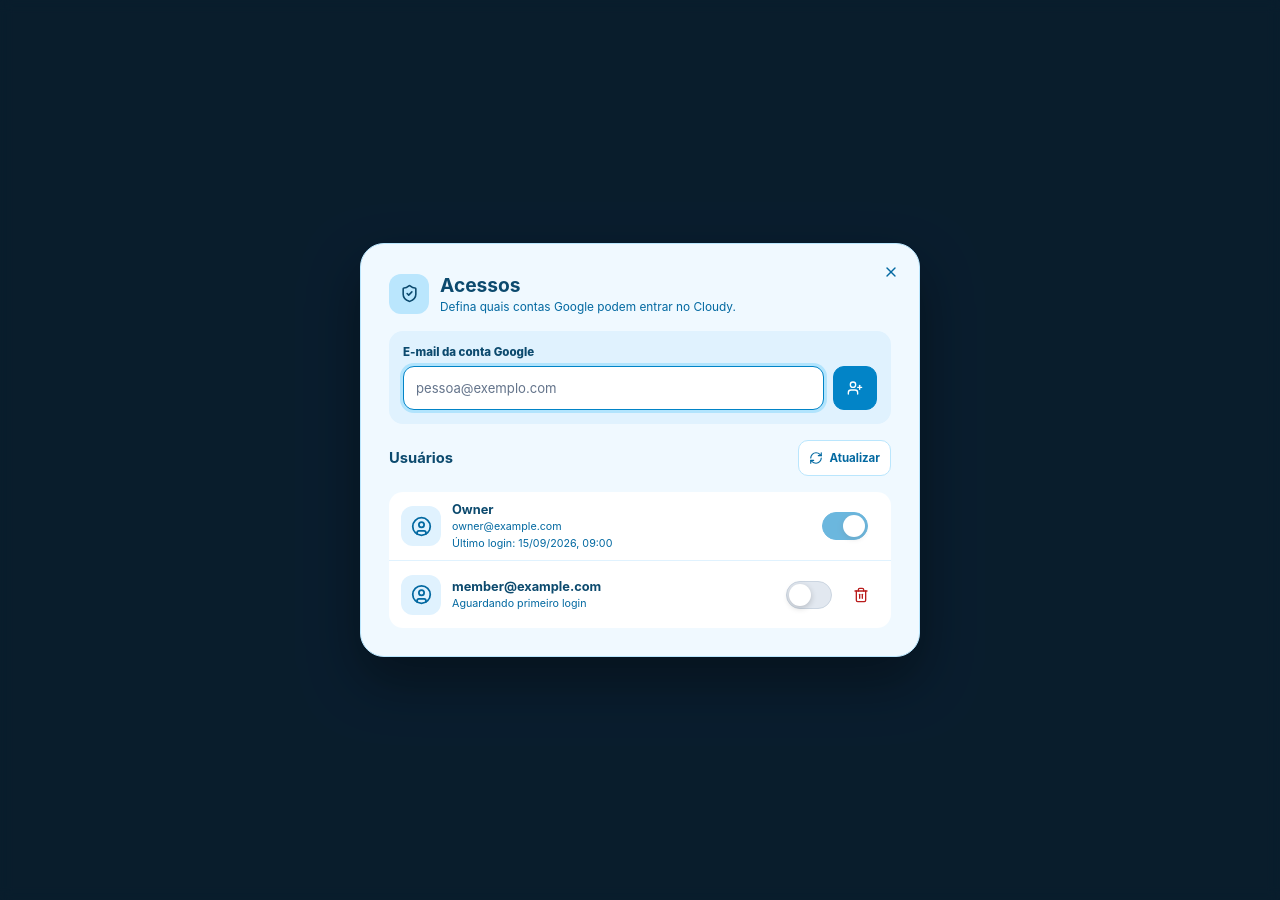
it: AccessAdminDialog › ativa somente o membro escolhido
What coordinates should you click on to do the following:
click the switch named "Ativar acesso de member@example.com"
I would click on:
 (809, 595)
Its box is [786, 573, 832, 617].
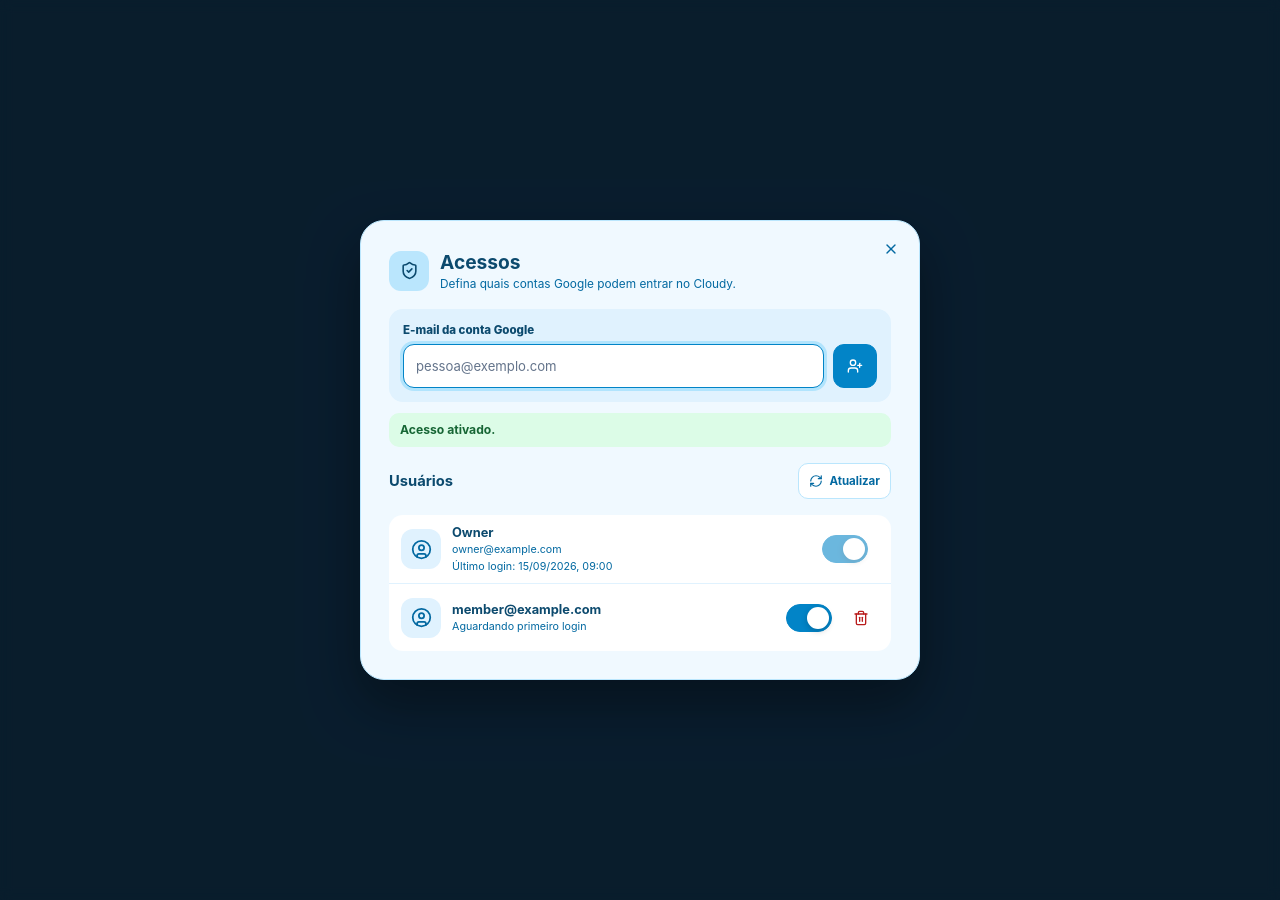
Expected: the text "Acesso ativado." is shown, [389, 413, 891, 447]
Expected: the switch named "Desativar acesso de member@example.com" is shown, [786, 596, 832, 640]
